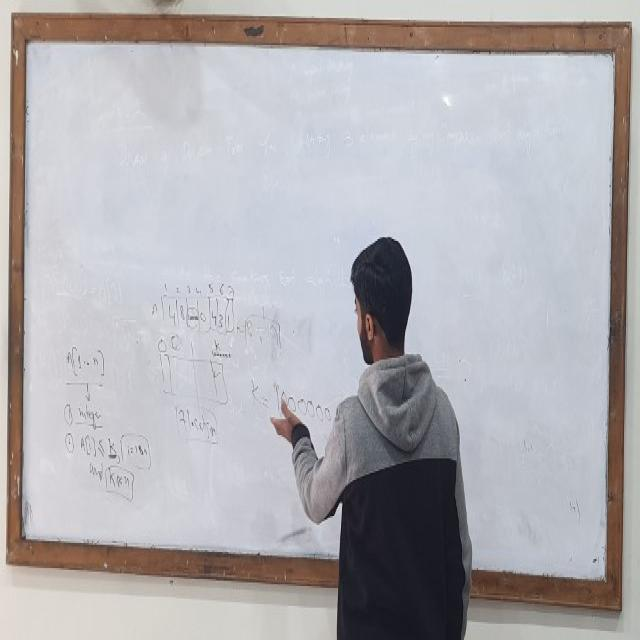Instructor: (326, 232, 469, 638)
White-board: (11, 28, 624, 602)
